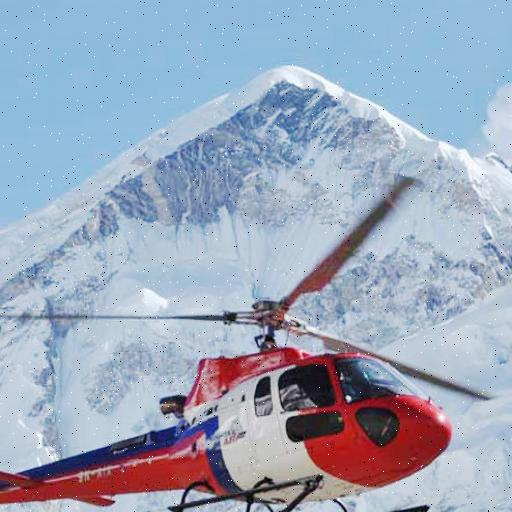helicopter: (1, 176, 493, 512)
